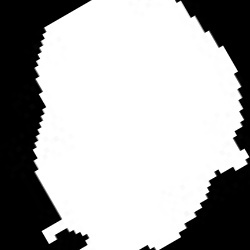spot: (34, 2, 249, 249)
